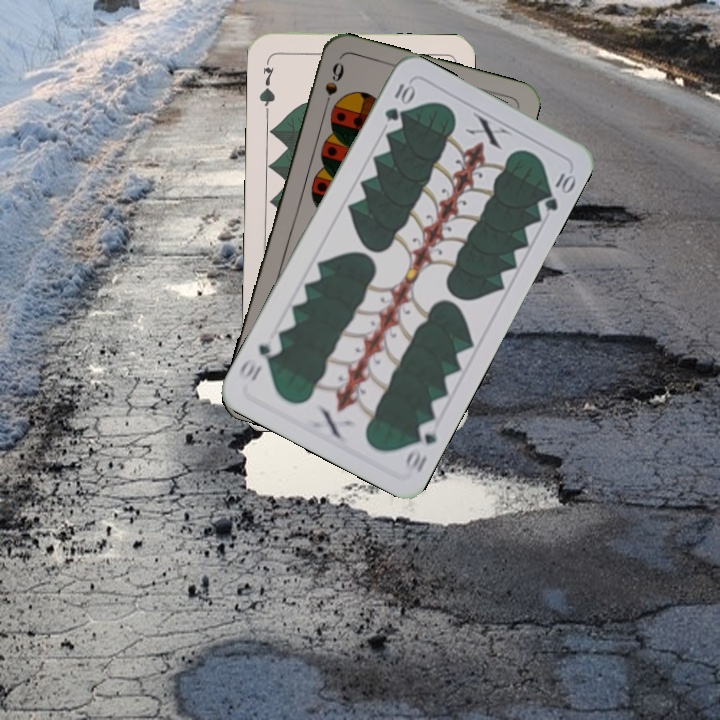G10: (399, 417, 440, 476), (380, 77, 417, 125)
G7: (255, 56, 278, 115)
S9: (319, 58, 347, 115)
